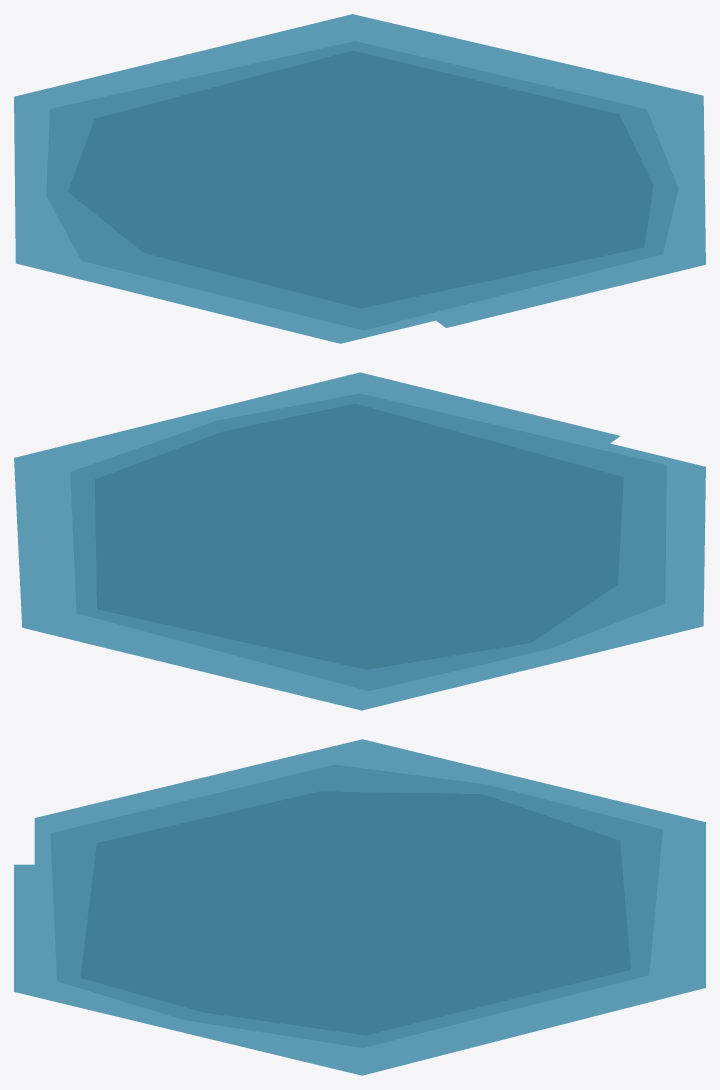
Rendered from kd_connection_town-ground_surface_2_34.glb.
3 renders of one model, top to bottom at view 1: azimuth 30°, elevation 25°; view 2: azimuth 150°, elevation 25°; view 3: azimuth 270°, elevation 25°, orthographic.
Visible parts, largest first — view 1: kd_connection_town-ground_surface_2_34; view 2: kd_connection_town-ground_surface_2_34; view 3: kd_connection_town-ground_surface_2_34.
Boxes of the visible parts, left/top/right/bottom form: kd_connection_town-ground_surface_2_34: left=14, top=14, right=705, bottom=343; kd_connection_town-ground_surface_2_34: left=14, top=372, right=705, bottom=710; kd_connection_town-ground_surface_2_34: left=14, top=739, right=705, bottom=1075.
Size of the model in its own units: 19.04 by 1.43e-06 by 16.55.
1 material, 1 textured.
